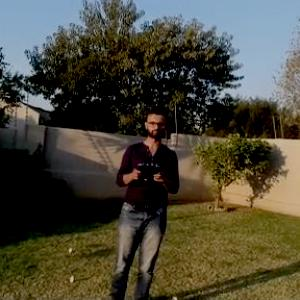follow: (106, 102, 184, 299)
